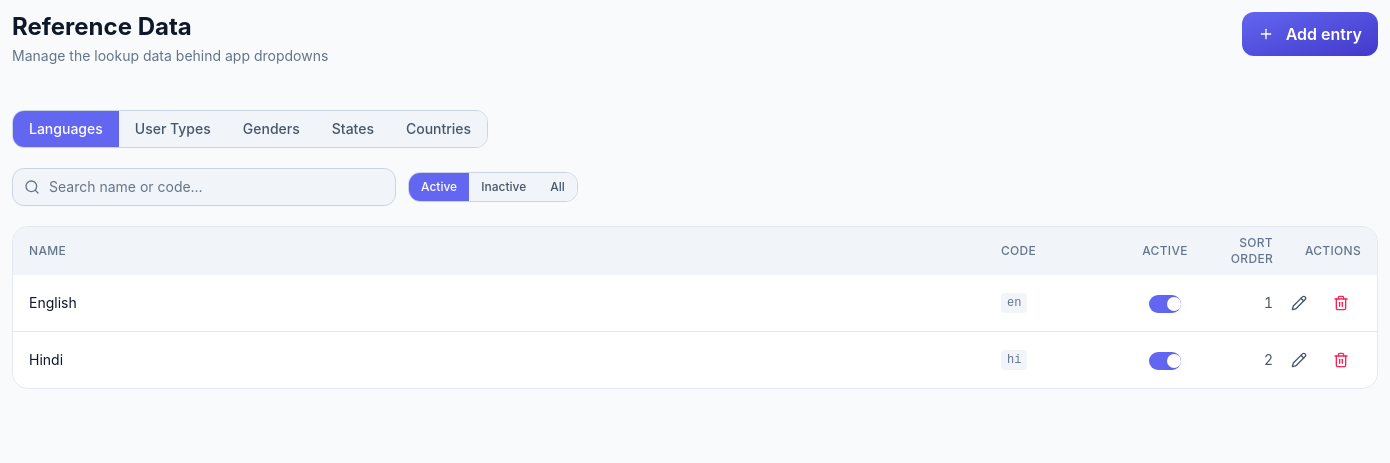
it: ReferenceDataPage › All filter shows inactive items too
Expected: the text "English" is shown, [29,294,77,311]
Step 1. Click the radio button labelled "All" → click(558, 187), box [538,173,577,201]
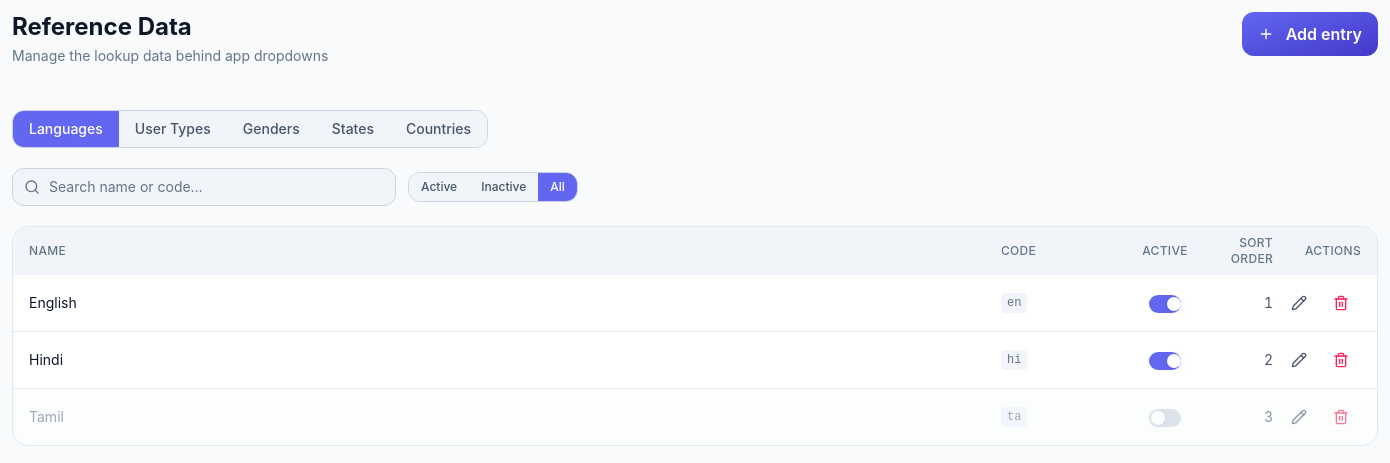
Expected: the text "Tamil" is shown, [29,408,64,425]
